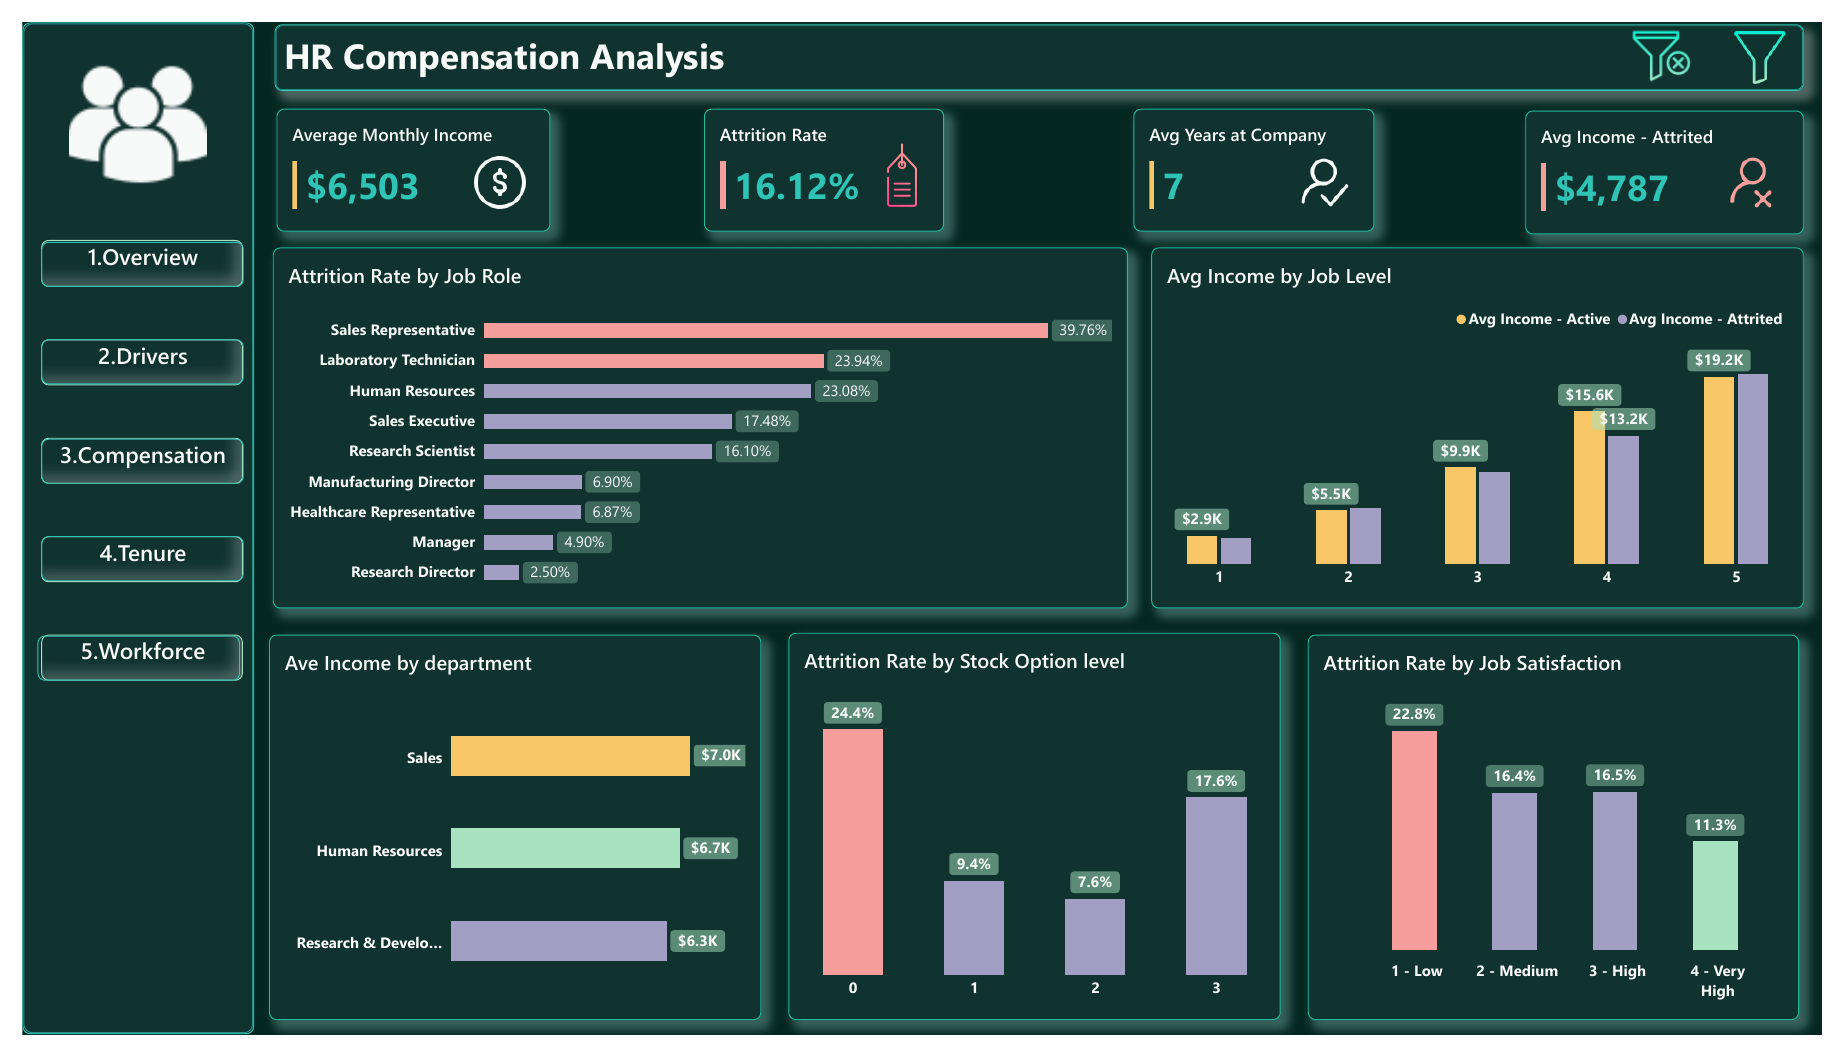

This screenshot's page, from the dashboard's own definition file:
{"tool":"powerbi","page":{"name":"Compensation","canvas":[1920,1080],"ordinal":3},"visuals":[{"type":"shape","box":[0,0,246.6,1079.3],"z":0},{"type":"multiRowCard","title":"Average Monthly Income","fields":{"Values":["Measures_HR.Average Monthly Income"]},"box":[271.4,92.3,291.4,130.3],"z":1000},{"type":"multiRowCard","title":"Avg Years at Company","fields":{"Values":["Measures_HR.Avg Years at Company"]},"box":[1185.4,92,256.2,131.2],"z":2000},{"type":"multiRowCard","title":"Avg Income - Attrited","fields":{"Values":["Measures_HR.Avg Income - Attrited"]},"box":[1603.4,94.1,296.8,132.1],"z":3000},{"type":"clusteredBarChart","title":" Attrition Rate  by Job Role","fields":{"Category":["Dim_Job.job_role"],"Y":["Measures_HR.Attrition Rate"]},"box":[266.7,239.6,912.5,385.4],"z":4000},{"type":"clusteredColumnChart","title":"Avg Income by Job Level","fields":{"Category":["Dim_Job.job_level"],"Y":["Measures_HR.Avg Income - Active","Measures_HR.Avg Income - Attrited"]},"box":[1204.2,239.6,695.8,385.4],"z":5000},{"type":"clusteredColumnChart","title":"Attrition Rate by Job Satisfaction ","fields":{"Category":["Fact_Employee.Job Satisfaction Label"],"Y":["Measures_HR.Attrition Rate"]},"box":[1370.8,652.7,524.4,411.1],"z":6000},{"type":"clusteredColumnChart","title":"Attrition Rate by Stock Option level","fields":{"Category":["Fact_Employee.stock_option_level"],"Y":["Measures_HR.Attrition Rate"]},"box":[816.7,651.3,525,412.5],"z":7000},{"type":"barChart","title":"Ave Income by department","fields":{"Category":["Dim_Job.department"],"Y":["Measures_HR.Average Monthly Income"]},"box":[262.5,653.4,525,410.4],"z":8000},{"type":"shape","title":"2.Drivers","box":[19.7,338.4,215.5,48.3],"z":9000},{"type":"shape","title":"3.Compensation","box":[19.7,443.4,215.5,48.3],"z":10000},{"type":"shape","title":"4.Tenure","box":[19.7,548.4,215.5,48.3],"z":11000},{"type":"shape","title":"5.Workforce","box":[19.7,653.3,215.5,48.3],"z":12000},{"type":"shape","title":"1.Overview","box":[19.7,231.7,215.5,50],"z":13000},{"type":"multiRowCard","title":"Attrition Rate ","fields":{"Values":["Measures_HR.Attrition Rate"]},"box":[727.1,92,256.2,131.2],"z":14000},{"type":"shape","box":[268.8,2.1,1631.2,70.8],"z":16000},{"type":"image","box":[1697.9,0,100,70.8],"z":17000},{"type":"image","box":[1810.4,10.4,85.4,55],"z":18000},{"type":"textbox","box":[279.3,10.3,643.1,69],"z":19000},{"type":"image","box":[900,126,76,74],"z":20000},{"type":"image","box":[34.4,36.2,177.1,145.8],"z":21000},{"type":"image","box":[475.9,141.2,65.1,57.9],"z":22000},{"type":"image","box":[1355.4,141.2,66.7,58.3],"z":23000},{"type":"image","box":[1789.8,141.2,105,57.9],"z":24000},{"type":"actionButton","box":[20,234,216,48],"z":25000},{"type":"actionButton","box":[20,338,216,48],"z":26000},{"type":"actionButton","box":[20,444,216,48],"z":27000},{"type":"actionButton","box":[20,548,216,48],"z":28000},{"type":"actionButton","box":[16,654,216,48],"z":29000}]}

Visuals, with their boxes in screenshot pixels (x1, y1, x2, y2), scaled from the page's 1920x1080 canvas onto the 1845x1058 screenshot:
shape: (0, 0, 237, 1057)
"Average Monthly Income" multiRowCard: (261, 90, 541, 218)
"Avg Years at Company" multiRowCard: (1139, 90, 1385, 219)
"Avg Income - Attrited" multiRowCard: (1541, 92, 1826, 222)
" Attrition Rate  by Job Role" clusteredBarChart: (256, 235, 1133, 612)
"Avg Income by Job Level" clusteredColumnChart: (1157, 235, 1826, 612)
"Attrition Rate by Job Satisfaction " clusteredColumnChart: (1317, 639, 1821, 1042)
"Attrition Rate by Stock Option level" clusteredColumnChart: (785, 638, 1289, 1042)
"Ave Income by department" barChart: (252, 640, 757, 1042)
"2.Drivers" shape: (19, 332, 226, 379)
"3.Compensation" shape: (19, 434, 226, 482)
"4.Tenure" shape: (19, 537, 226, 585)
"5.Workforce" shape: (19, 640, 226, 687)
"1.Overview" shape: (19, 227, 226, 276)
"Attrition Rate " multiRowCard: (699, 90, 945, 219)
shape: (258, 2, 1826, 71)
image: (1632, 0, 1728, 69)
image: (1740, 10, 1822, 64)
textbox: (268, 10, 886, 78)
image: (865, 123, 938, 196)
image: (33, 35, 203, 178)
image: (457, 138, 520, 195)
image: (1302, 138, 1367, 195)
image: (1720, 138, 1821, 195)
actionButton: (19, 229, 227, 276)
actionButton: (19, 331, 227, 378)
actionButton: (19, 435, 227, 482)
actionButton: (19, 537, 227, 584)
actionButton: (15, 641, 223, 688)
